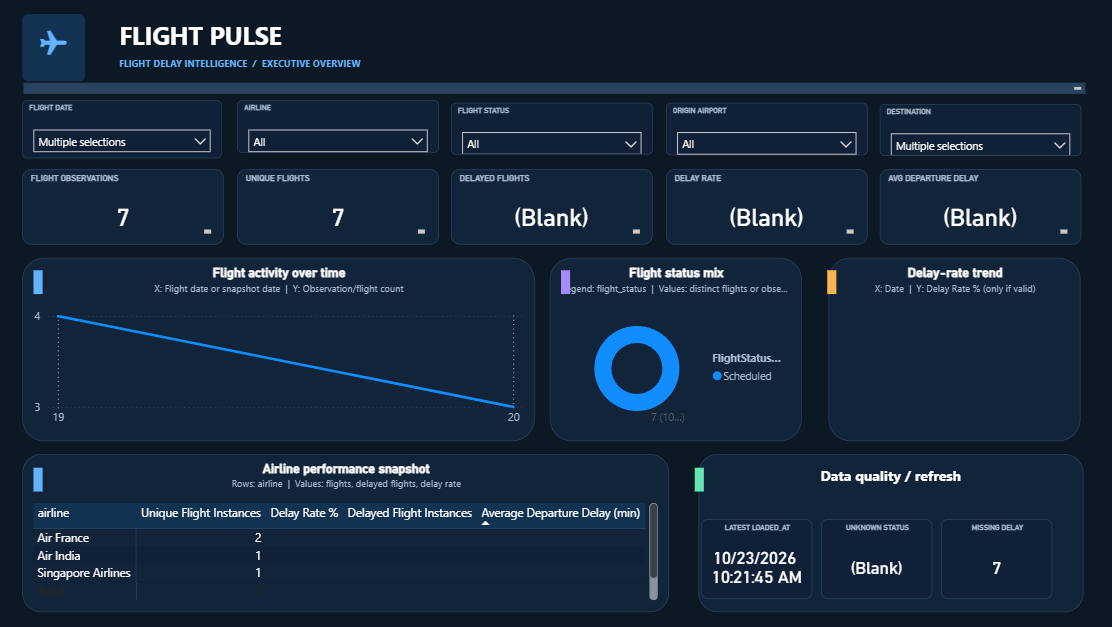

This screenshot's page, from the dashboard's own definition file:
{"tool":"powerbi","page":{"name":"Exclusive Overview","canvas":[1280,720],"ordinal":0},"visuals":[{"type":"textbox","box":[30,17.1,71.7,76.7],"z":0},{"type":"textbox","box":[135.7,17.1,661.4,52.9],"z":1000},{"type":"textbox","box":[135.7,58.6,662.8,35.7],"z":2000},{"type":"slicer","title":"FLIGHT DATE","fields":{"Values":["public flight_observations.flight_date"]},"box":[30,115.7,227.8,66.7],"z":3000},{"type":"slicer","title":"AIRLINE","fields":{"Values":["public flight_observations.airline"]},"box":[275.6,115.6,230,60],"z":4000},{"type":"slicer","title":"FLIGHT STATUS","fields":{"Values":["public flight_observations.FlightStatusGroup"]},"box":[520,118.9,230,58.9],"z":5000},{"type":"slicer","title":"ORIGIN AIRPORT","fields":{"Values":["public flight_observations.departure_iata"]},"box":[765.6,118.9,230,60],"z":6000},{"type":"slicer","title":"DESTINATION","fields":{"Values":["public flight_observations.arrival_iata"]},"box":[1010,120,230,58.9],"z":7000},{"type":"card","title":"FLIGHT OBSERVATIONS","fields":{"Values":["public flight_observations.Flight Observation"]},"box":[30.7,193.6,230.4,86.4],"z":8000},{"type":"textbox","box":[44.1,257.9,206.4,14.4],"z":9000},{"type":"card","title":"UNIQUE FLIGHTS","fields":{"Values":["public flight_observations.Unique Flight Instances"]},"box":[275.5,193.6,230.4,86.4],"z":10000},{"type":"textbox","box":[288.9,257.9,206.4,14.4],"z":11000},{"type":"card","title":"DELAYED FLIGHTS","fields":{"Values":["public flight_observations.Delayed Flight Instances"]},"box":[520.3,193.6,230.4,86.4],"z":12000},{"type":"textbox","box":[533.7,257.9,206.4,14.4],"z":13000},{"type":"card","title":"DELAY RATE","fields":{"Values":["public flight_observations.Delay Rate %"]},"box":[765.1,193.6,230.4,86.4],"z":14000},{"type":"textbox","box":[778.5,257.9,206.4,14.4],"z":15000},{"type":"card","title":"AVG DEPARTURE DELAY","fields":{"Values":["public flight_observations.Average Departure Delay (min)"]},"box":[1009.9,193.6,230.4,86.4],"z":16000},{"type":"textbox","box":[1023.3,257.9,206.4,14.4],"z":17000},{"type":"lineChart","title":"Flight activity over time","fields":{"Category":["public flight_observations.flight_date.Variation.Date Hierarchy.Day"],"Y":["public flight_observations.Unique Flight Instances"]},"box":[30.7,295.4,585.6,209.3],"z":18000},{"type":"textbox","box":[42.2,310.7,4.3,26.9],"z":19000},{"type":"donutChart","title":"Flight status mix","fields":{"Category":["public flight_observations.FlightStatusGroup"],"Y":["public flight_observations.Unique Flight Instances"]},"box":[633.6,295.4,288,209.3],"z":20000},{"type":"textbox","box":[645.1,310.7,4.3,26.9],"z":21000},{"type":"lineChart","title":"Delay-rate trend","fields":{"Category":["public flight_observations.flight_date.Variation.Date Hierarchy.Day"],"Y":["public flight_observations.Delay Rate %"]},"box":[951.7,295,288,209.3],"z":22000},{"type":"textbox","box":[950.4,310.7,4.3,26.9],"z":23000},{"type":"pivotTable","title":"Airline performance snapshot","fields":{"Rows":["public flight_observations.airline"],"Values":["public flight_observations.Unique Flight Instances","public flight_observations.Delay Rate %","public flight_observations.Delayed Flight Instances","public flight_observations.Average Departure Delay (min)"]},"box":[30.7,520,739.2,180.5],"z":24000},{"type":"textbox","box":[42.2,535.4,4.3,26.9],"z":25000},{"type":"textbox","box":[803.3,520,439.7,180.5],"z":26000},{"type":"card","title":"LATEST LOADED_AT","fields":{"Values":["public flight_observations.Latest Data Load Time"]},"box":[806.4,594.9,127.4,91.2],"z":27000},{"type":"card","title":"UNKNOWN STATUS","fields":{"Values":["public flight_observations.Unknown Status Observations"]},"box":[943.3,594.9,127.4,91.2],"z":28000},{"type":"card","title":"MISSING DELAY","fields":{"Values":["public flight_observations.Missing Delay Observations"]},"box":[1080.3,594.9,127.4,91.2],"z":29000},{"type":"textbox","box":[798.7,535.4,4.3,26.9],"z":30000},{"type":"textbox","box":[31.2,95,1213.6,12.7],"z":31000}]}

Visuals, with their boxes in screenshot pixels (x1, y1, x2, y2), scaled from the page's 1280x720 canvas onto the 1112x627 screenshot:
textbox: detection(26, 15, 88, 82)
textbox: detection(118, 15, 692, 61)
textbox: detection(118, 51, 694, 82)
"FLIGHT DATE" slicer: detection(26, 101, 224, 159)
"AIRLINE" slicer: detection(239, 101, 439, 153)
"FLIGHT STATUS" slicer: detection(452, 104, 652, 155)
"ORIGIN AIRPORT" slicer: detection(665, 104, 865, 156)
"DESTINATION" slicer: detection(877, 104, 1077, 156)
"FLIGHT OBSERVATIONS" card: detection(27, 169, 227, 244)
textbox: detection(38, 225, 218, 237)
"UNIQUE FLIGHTS" card: detection(239, 169, 440, 244)
textbox: detection(251, 225, 430, 237)
"DELAYED FLIGHTS" card: detection(452, 169, 652, 244)
textbox: detection(464, 225, 643, 237)
"DELAY RATE" card: detection(665, 169, 865, 244)
textbox: detection(676, 225, 856, 237)
"AVG DEPARTURE DELAY" card: detection(877, 169, 1078, 244)
textbox: detection(889, 225, 1068, 237)
"Flight activity over time" lineChart: detection(27, 257, 535, 440)
textbox: detection(37, 271, 40, 294)
"Flight status mix" donutChart: detection(550, 257, 801, 440)
textbox: detection(560, 271, 564, 294)
"Delay-rate trend" lineChart: detection(827, 257, 1077, 439)
textbox: detection(826, 271, 829, 294)
"Airline performance snapshot" pivotTable: detection(27, 453, 669, 610)
textbox: detection(37, 466, 40, 490)
textbox: detection(698, 453, 1080, 610)
"LATEST LOADED_AT" card: detection(701, 518, 811, 597)
"UNKNOWN STATUS" card: detection(819, 518, 930, 597)
"MISSING DELAY" card: detection(939, 518, 1049, 597)
textbox: detection(694, 466, 698, 490)
textbox: detection(27, 83, 1081, 94)
